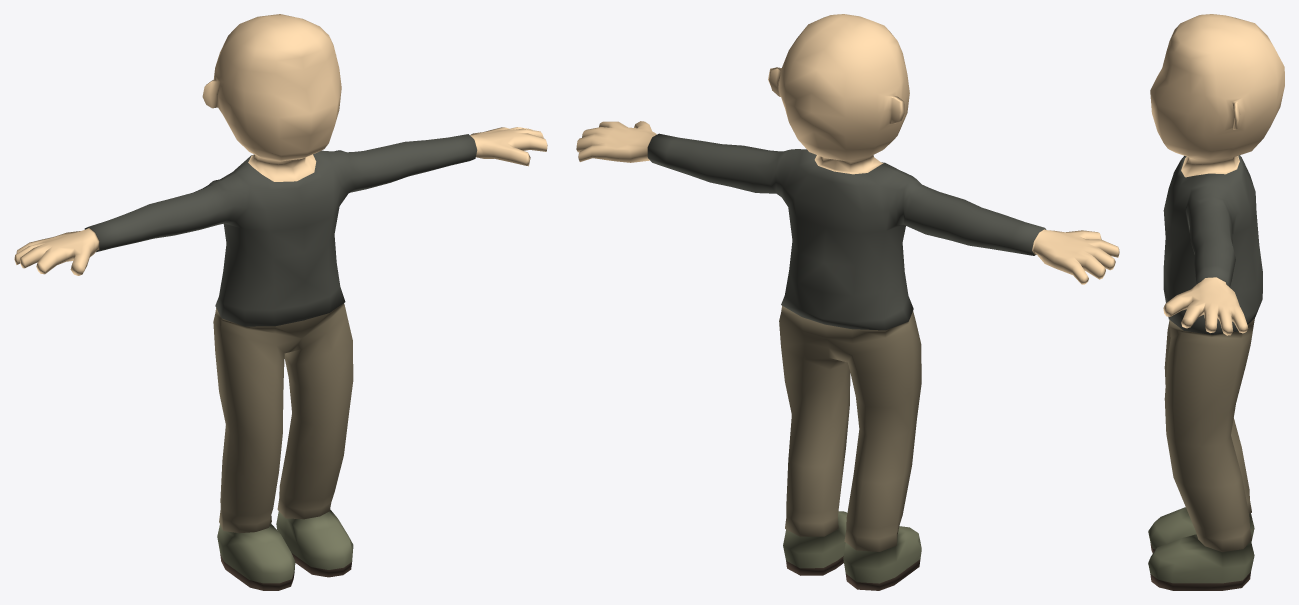
The model's file is Avatar_modified v2 (no jumpkit).obj.
3 views of the same model, side by side, from view 1: azimuth 30°, elevation 25°; view 2: azimuth 150°, elevation 25°; view 3: azimuth 270°, elevation 25° (orthographic).
Parts seen in each view (by area): view 1: Avatar_modified:Mesh; view 2: Avatar_modified:Mesh; view 3: Avatar_modified:Mesh.
Boxes of the visible parts, <box> form: Avatar_modified:Mesh: <box>14,14,547,590</box>; Avatar_modified:Mesh: <box>576,14,1119,590</box>; Avatar_modified:Mesh: <box>1148,14,1284,590</box>.
Bounding box in the file's own units: 8.92 × 8.82 × 2.01.
1 material, 1 textured.
